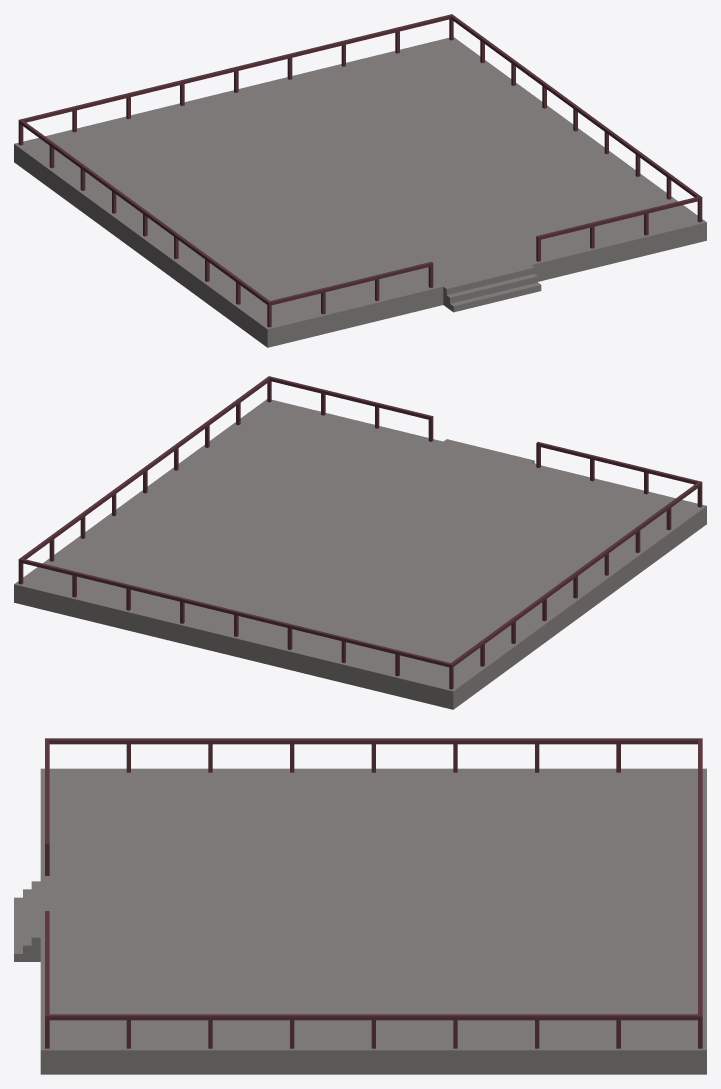
The model's file is paris-stage.fbx.
3 views of the same model, one above another, from view 1: azimuth 30°, elevation 25°; view 2: azimuth 150°, elevation 25°; view 3: azimuth 270°, elevation 25° (orthographic). The views are drawn at different scales.
Parts seen in each view (by area): view 1: free-fall-rides; view 2: free-fall-rides; view 3: free-fall-rides.
Part boxes in pixels (box(x1,y1,x2,y2)): free-fall-rides: box(14, 14, 706, 347); free-fall-rides: box(14, 376, 706, 709); free-fall-rides: box(14, 738, 706, 1074).
Bounding box in the file's own units: 1500 × 140 × 1560.
